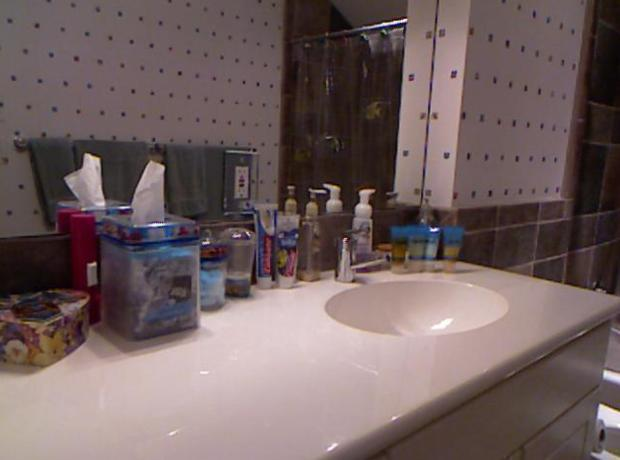Lavamanos: (321, 217, 513, 354)
